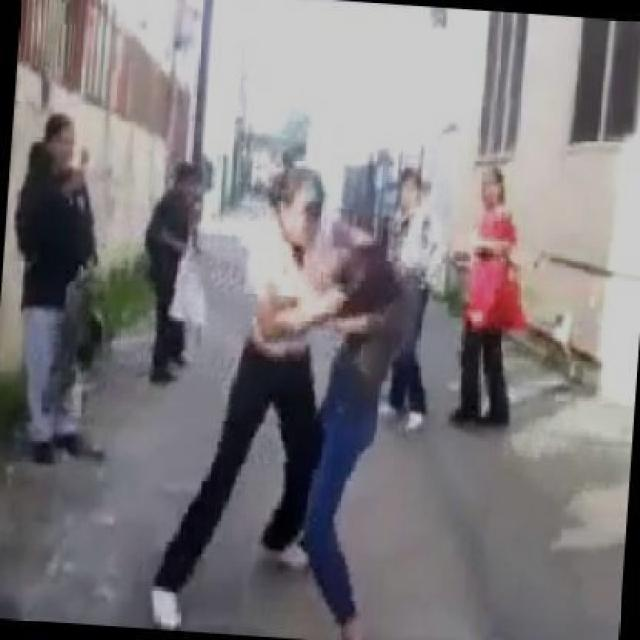fight: (136, 165, 445, 637)
non-fight: (0, 104, 120, 462), (127, 160, 216, 383)
